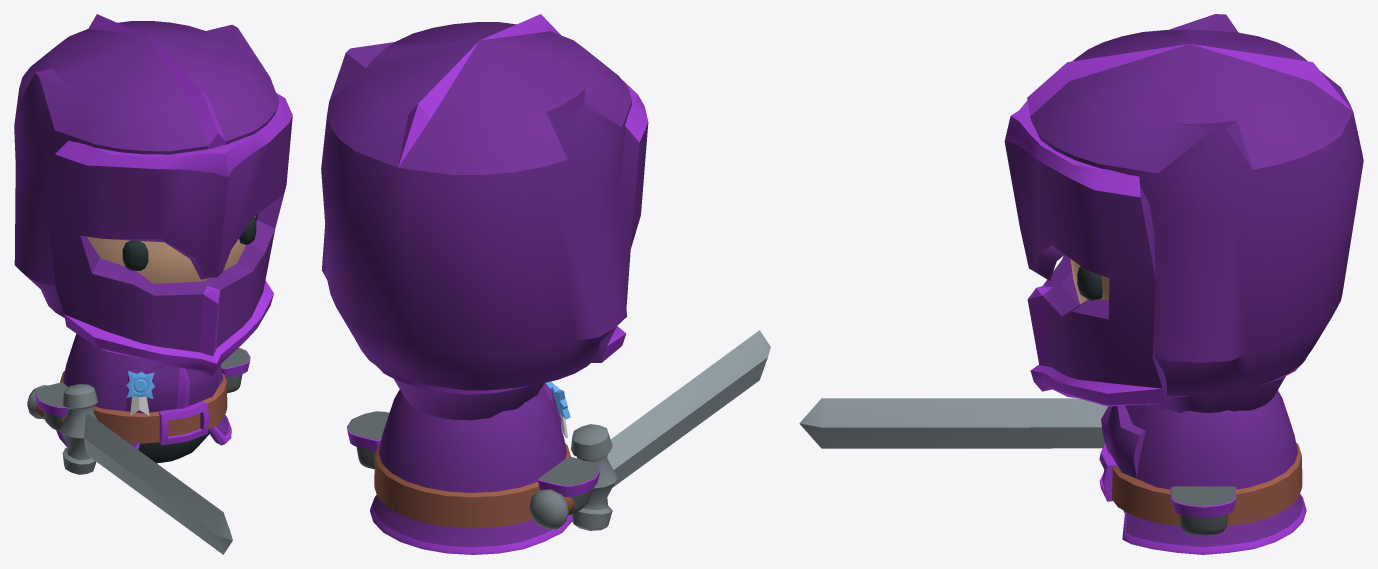
File: character_knight_sword.fbx
3 renders of one model, left to right at view 1: azimuth 30°, elevation 25°; view 2: azimuth 150°, elevation 25°; view 3: azimuth 270°, elevation 25°, orthographic. The views are drawn at different scales.
Parts seen in each view (by area): view 1: character_knightHelmetVisor, character_knightHelmet, character_knightBody_sword, sword_uncommon, character_knightHead, character_knightArmRight, character_knightArmLeft; view 2: character_knightHelmet, character_knightBody_sword, sword_uncommon, character_knightHelmetVisor, character_knightArmRight, character_knightArmLeft; view 3: character_knightHelmet, character_knightHelmetVisor, character_knightBody_sword, sword_uncommon, character_knightArmLeft, character_knightHead.
Boxes of the visible parts, left/top/right/bottom form: character_knightHelmetVisor: left=48, top=93, right=292, bottom=377; character_knightHelmet: left=14, top=14, right=278, bottom=317; character_knightBody_sword: left=56, top=333, right=231, bottom=463; sword_uncommon: left=27, top=384, right=232, bottom=554; character_knightHead: left=87, top=215, right=256, bottom=283; character_knightArmRight: left=35, top=382, right=67, bottom=431; character_knightArmLeft: left=220, top=347, right=250, bottom=393; character_knightHelmet: left=321, top=14, right=631, bottom=390; character_knightBody_sword: left=370, top=366, right=572, bottom=554; sword_uncommon: left=529, top=330, right=770, bottom=530; character_knightHelmetVisor: left=591, top=79, right=648, bottom=362; character_knightArmRight: left=537, top=457, right=600, bottom=515; character_knightArmLeft: left=347, top=411, right=389, bottom=469; character_knightHelmet: left=1027, top=14, right=1363, bottom=396; character_knightHelmetVisor: left=1004, top=100, right=1171, bottom=406; character_knightBody_sword: left=1099, top=359, right=1306, bottom=554; sword_uncommon: left=799, top=398, right=1107, bottom=448; character_knightArmLeft: left=1170, top=486, right=1236, bottom=535; character_knightHead: left=1070, top=259, right=1109, bottom=304.
Size of the model in its own units: 1.21 by 1.97 by 2.09.
